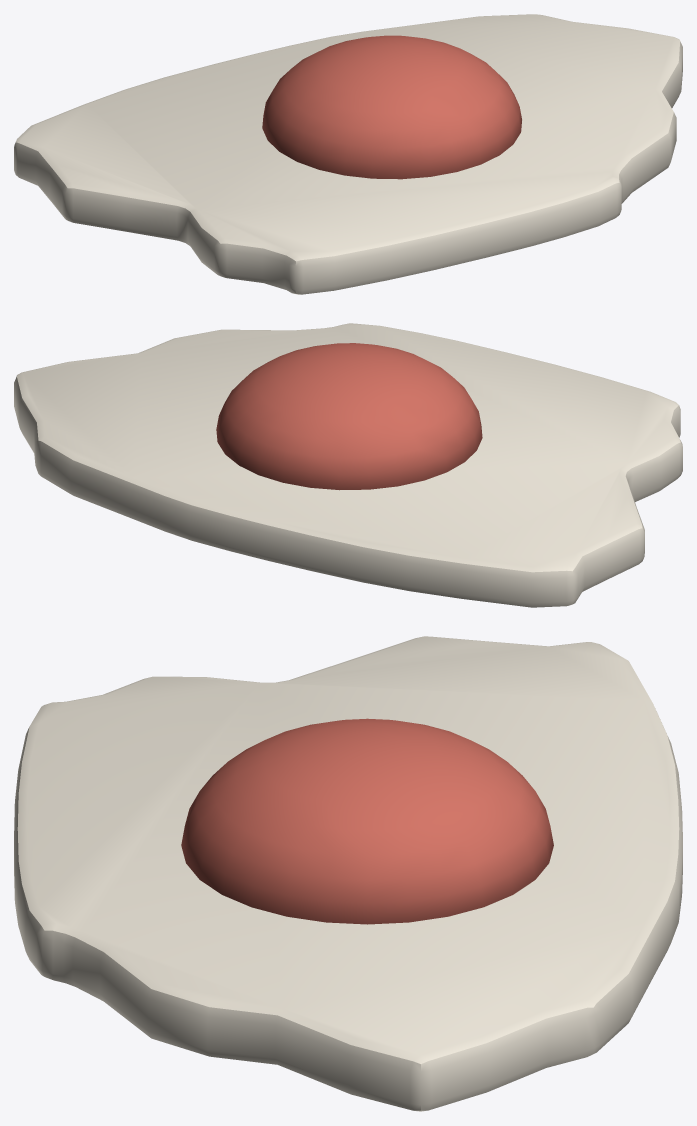
File: prep_egg.glb
3 views of the same model, one above another, from view 1: azimuth 30°, elevation 25°; view 2: azimuth 150°, elevation 25°; view 3: azimuth 270°, elevation 25° (orthographic). The views are drawn at different scales.
Visible parts, largest first — view 1: PART; view 2: PART; view 3: PART.
Boxes of the visible parts, bbox=[...] form: PART: bbox=[14, 14, 682, 294]; PART: bbox=[14, 323, 682, 607]; PART: bbox=[14, 636, 682, 1111].
Bounding box in the file's own units: 0.1253 × 0.0271 × 0.0826.
